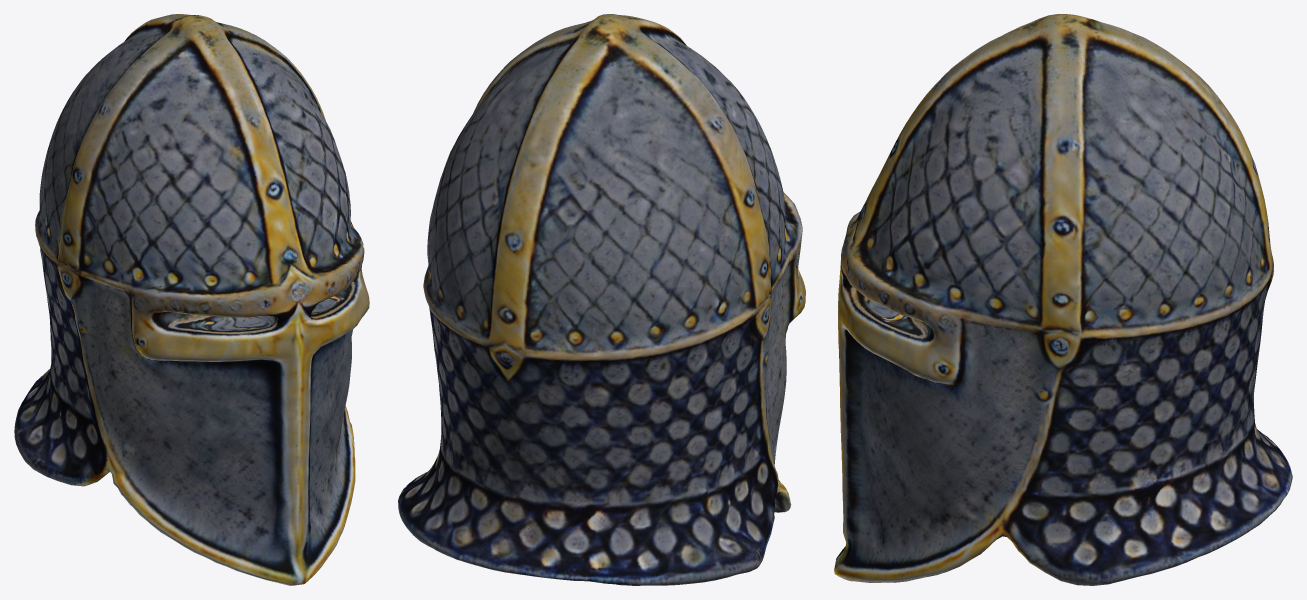
Rendered from medieval_helmet.glb.
3 views of the same model, side by side, from view 1: azimuth 30°, elevation 25°; view 2: azimuth 150°, elevation 25°; view 3: azimuth 270°, elevation 25° (orthographic). The views are drawn at different scales.
Visible parts, largest first — view 1: mesh_base_material_0; view 2: mesh_base_material_0; view 3: mesh_base_material_0.
Part boxes in pixels (x1,y1,x2,y2): mesh_base_material_0: (14, 14, 369, 585); mesh_base_material_0: (398, 14, 805, 585); mesh_base_material_0: (834, 14, 1292, 585).
Size of the model in its own units: 0.2021 by 0.3188 by 0.2386.
Materials: 1 (1 with a texture image).
